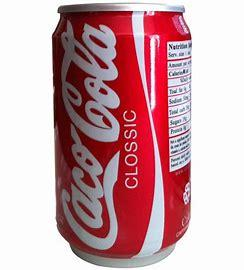metal: (53, 3, 192, 268)
